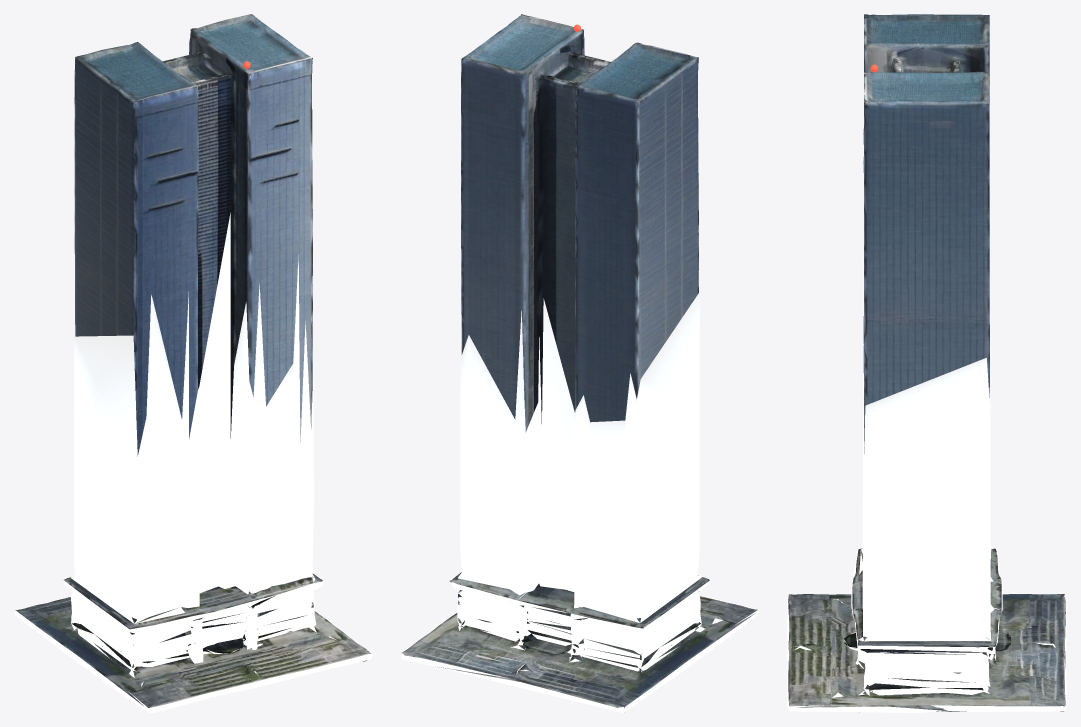
File: sky-blue.glb
The picture shows the model from 3 angles, left to right: view 1: azimuth 30°, elevation 25°; view 2: azimuth 150°, elevation 25°; view 3: azimuth 270°, elevation 25°; orthographic projection. The views are drawn at different scales.
Parts seen in each view (by area): view 1: Body, Accent; view 2: Body, Accent; view 3: Body, Accent.
Boxes of the visible parts, <box> form: Body: <box>15,14,371,707</box>; Accent: <box>14,212,372,712</box>; Body: <box>402,14,757,707</box>; Accent: <box>401,292,758,712</box>; Body: <box>788,14,1065,712</box>; Accent: <box>787,247,1066,712</box>.
Bounding box in the file's own units: 69.54 × 172 × 72.07.
3 materials, 1 textured.
